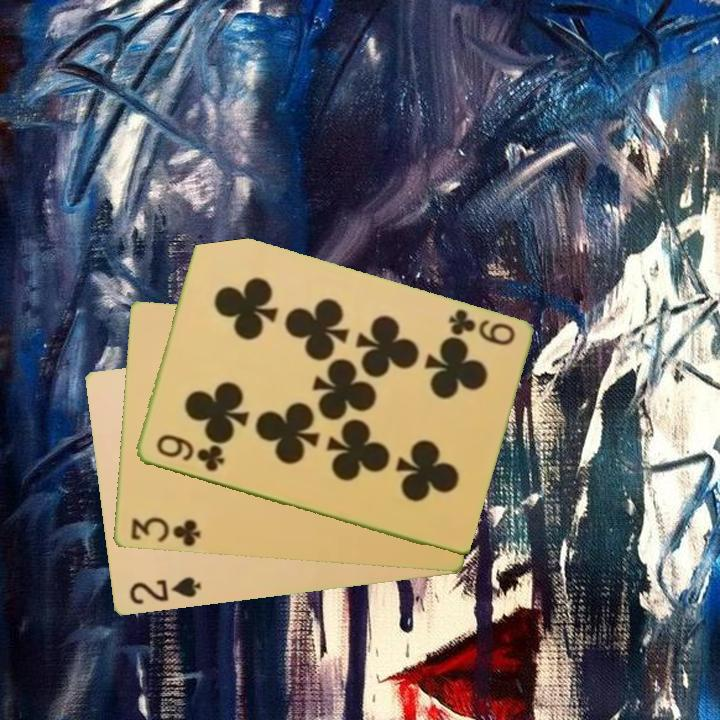2s: (125, 573, 204, 608)
3c: (127, 514, 203, 550)
9c: (152, 431, 227, 475), (444, 305, 518, 349)
